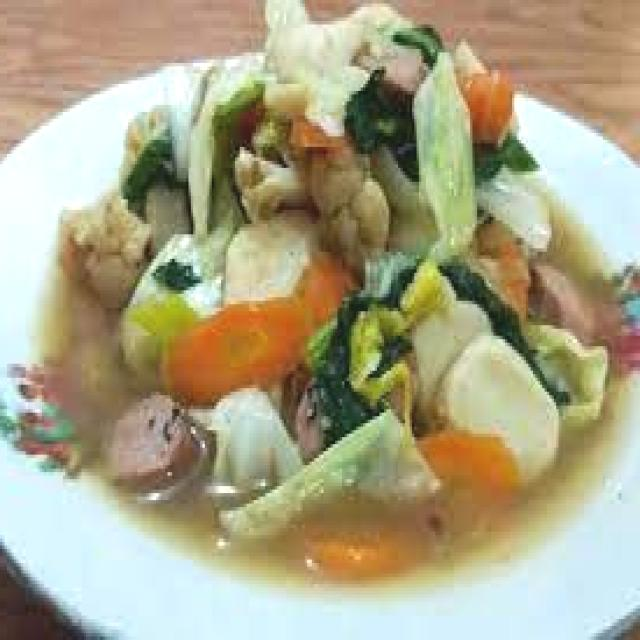capcay: (19, 0, 640, 584)
